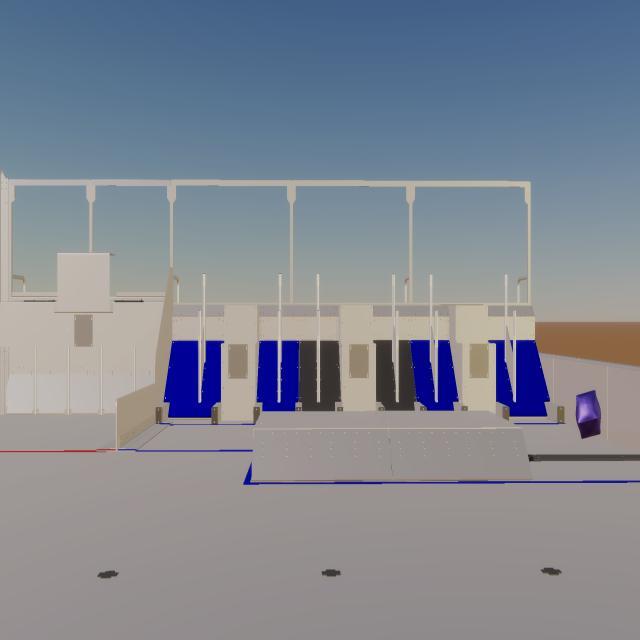frc_cube: (576, 390, 601, 439)
